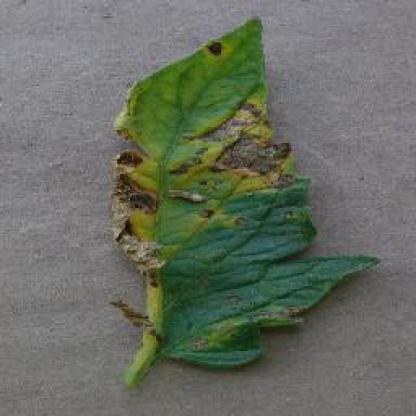Tomato_Blight: (111, 16, 375, 362)
